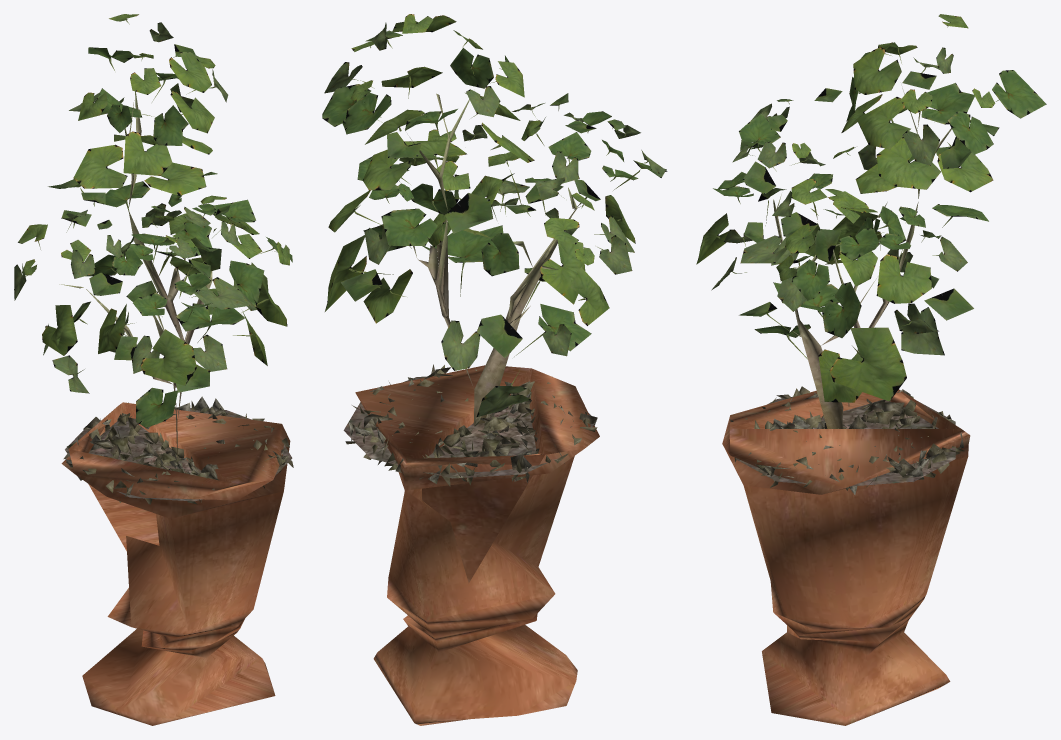
Rendered from potted_plant_01.glb.
3 views of the same model, side by side, from view 1: azimuth 30°, elevation 25°; view 2: azimuth 150°, elevation 25°; view 3: azimuth 270°, elevation 25° (orthographic). The views are drawn at different scales.
Parts seen in each view (by area): view 1: potted_plant_01_stem, potted_plant_01_leaves; view 2: potted_plant_01_stem, potted_plant_01_leaves; view 3: potted_plant_01_stem, potted_plant_01_leaves.
Boxes of the visible parts, left/top/right/bottom form: potted_plant_01_stem: left=59, top=91, right=293, bottom=725; potted_plant_01_leaves: left=14, top=14, right=292, bottom=427; potted_plant_01_stem: left=343, top=93, right=599, bottom=725; potted_plant_01_leaves: left=322, top=14, right=667, bottom=416; potted_plant_01_stem: left=722, top=88, right=970, bottom=725; potted_plant_01_leaves: left=696, top=14, right=1046, bottom=402.
Size of the model in its own units: 0.5775 by 1.33 by 0.6335.
2 materials, 2 textured.
